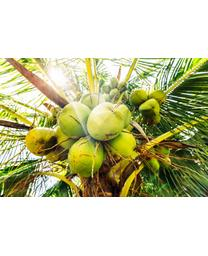coconut: (86, 101, 124, 142), (69, 136, 103, 176), (58, 101, 92, 138), (24, 125, 59, 155), (106, 131, 135, 157)
